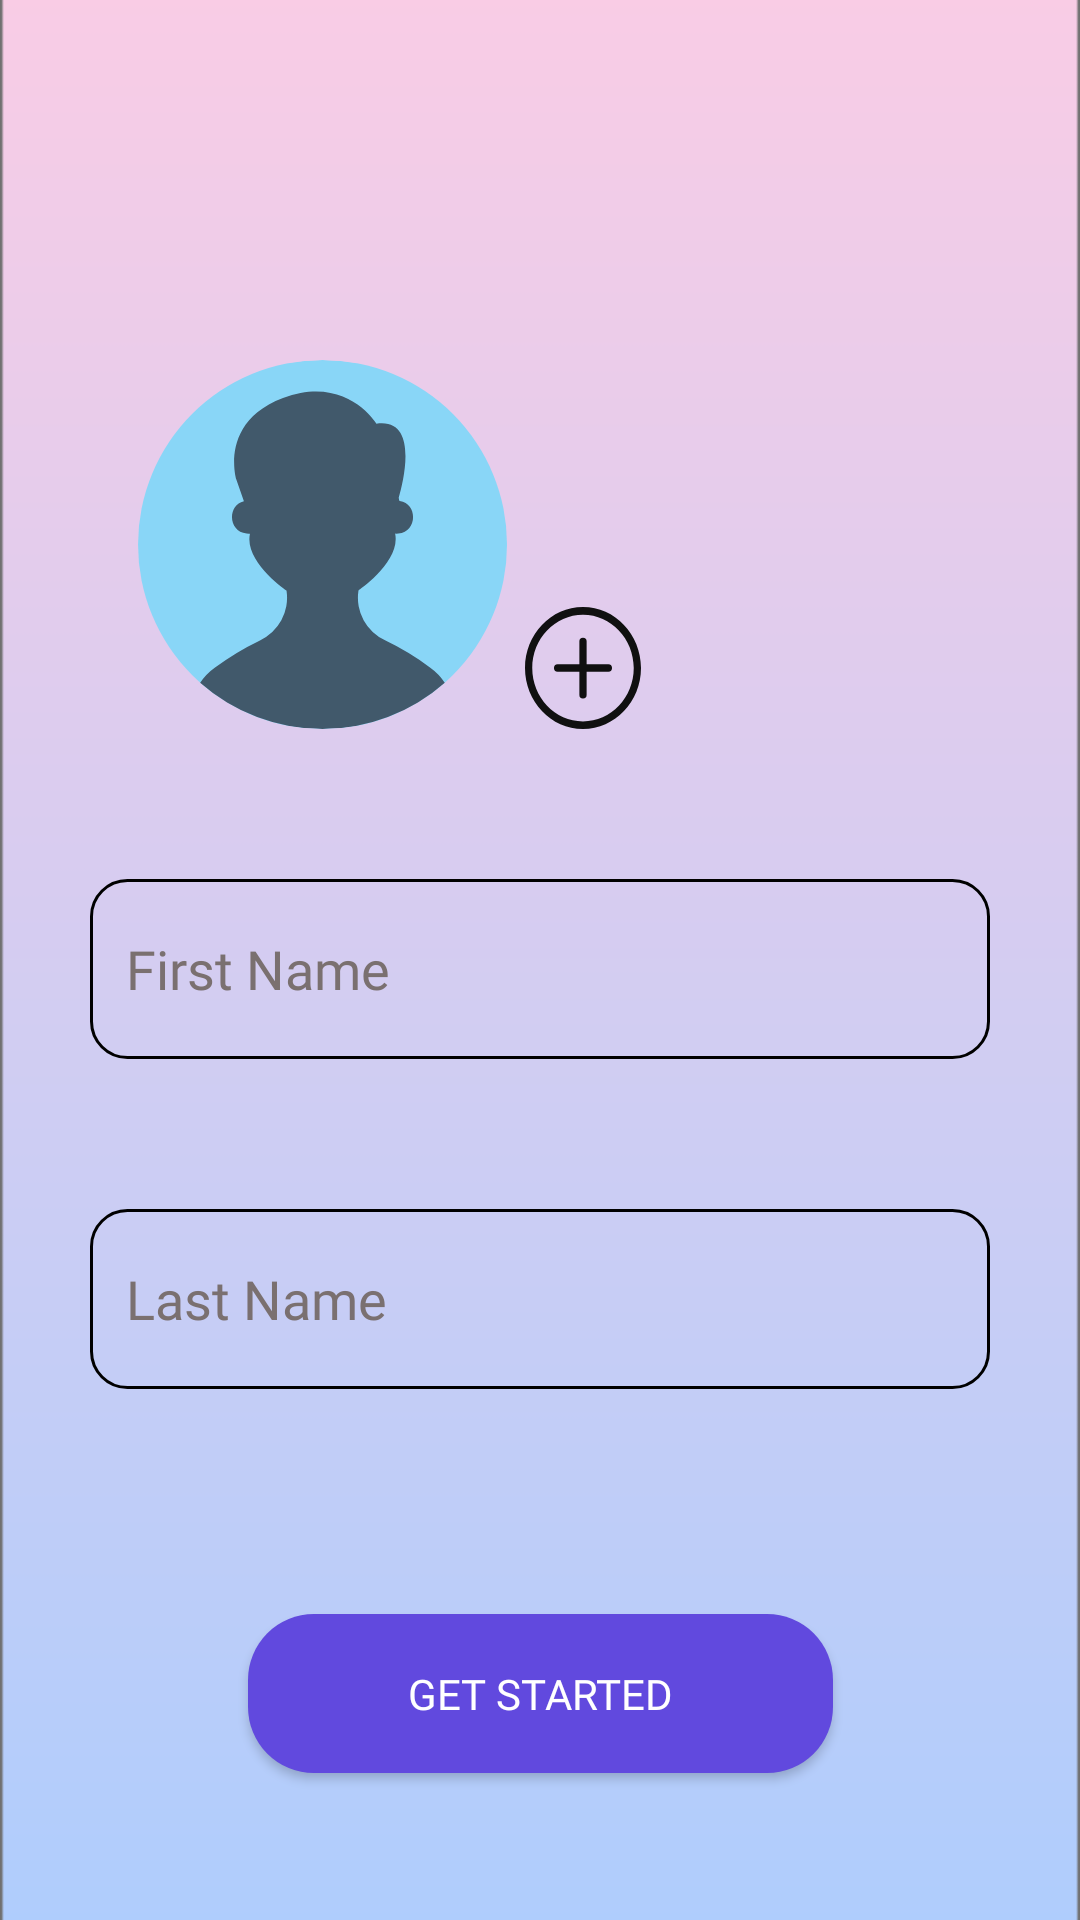

Named icons in this screenshot (1080x1920) and their bounding boxes, {"left": x1, "top": y1, "right": x2, "bottom": y2}:
plus: {"left": 525, "top": 607, "right": 641, "bottom": 729}
